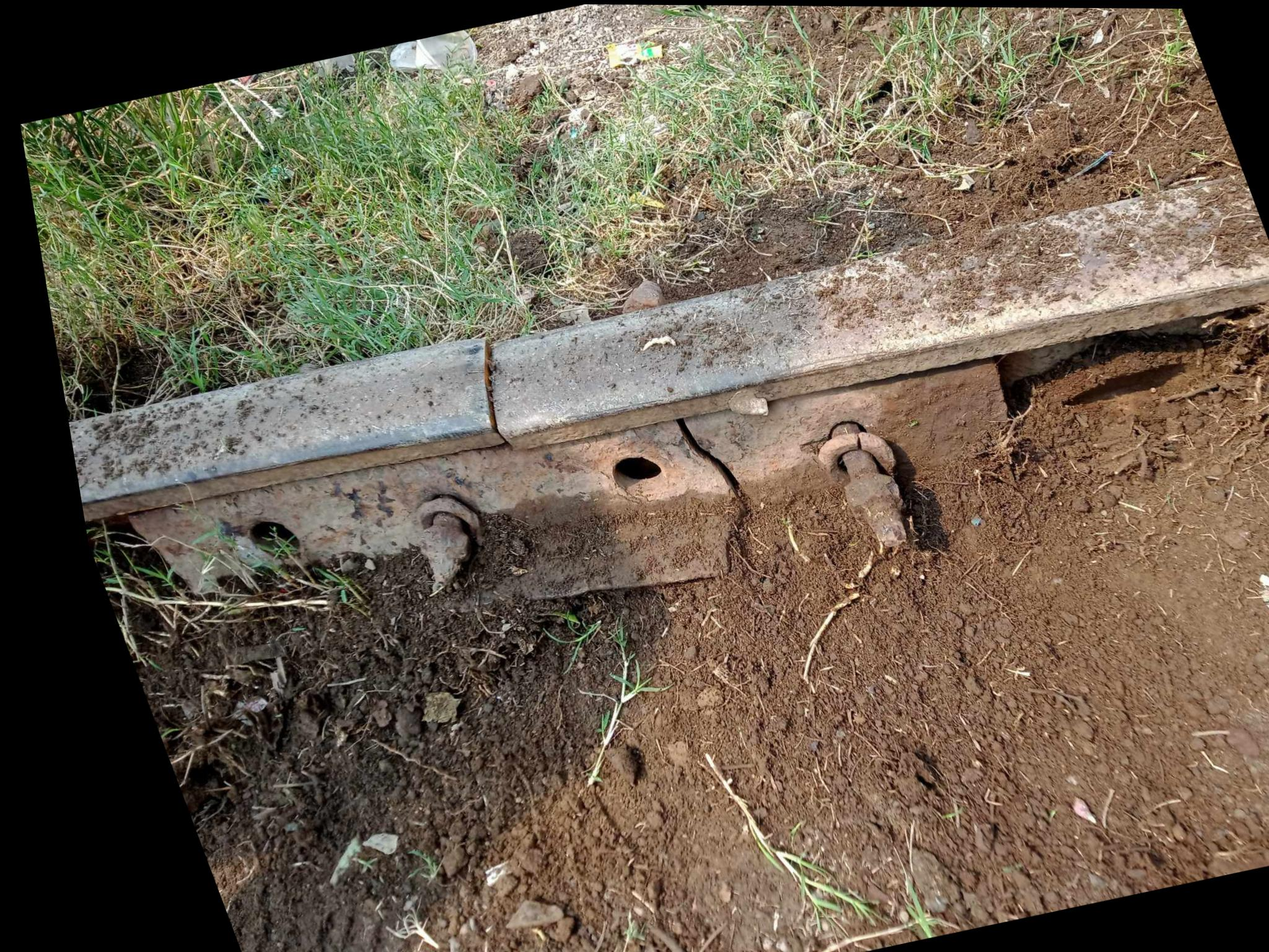person: (338, 281, 617, 507), (630, 389, 796, 579)
